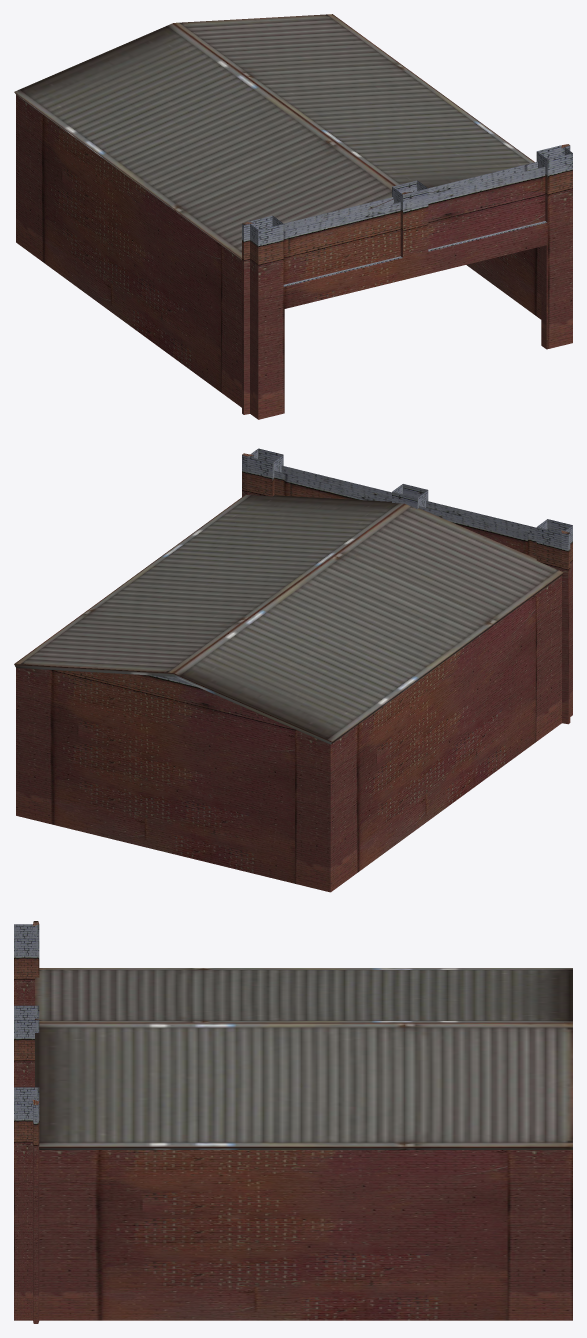
Rendered from rural_storesmall_1_rural_brownstone_facade_flr_6_0.glb.
3 views of the same model, one above another, from view 1: azimuth 30°, elevation 25°; view 2: azimuth 150°, elevation 25°; view 3: azimuth 270°, elevation 25° (orthographic). The views are drawn at different scales.
Visible parts, largest first — view 1: Rural_StoreSmall_1_Rural_Brownstone_Facade_Flr_6_0; view 2: Rural_StoreSmall_1_Rural_Brownstone_Facade_Flr_6_0; view 3: Rural_StoreSmall_1_Rural_Brownstone_Facade_Flr_6_0.
Boxes of the visible parts, box(x1,y1,x2,y2) form: Rural_StoreSmall_1_Rural_Brownstone_Facade_Flr_6_0: box(14, 14, 572, 419); Rural_StoreSmall_1_Rural_Brownstone_Facade_Flr_6_0: box(14, 448, 572, 892); Rural_StoreSmall_1_Rural_Brownstone_Facade_Flr_6_0: box(14, 921, 572, 1323).
Bounding box in the file's own units: 6.17 × 3.43 × 7.93.
1 material, 1 textured.
